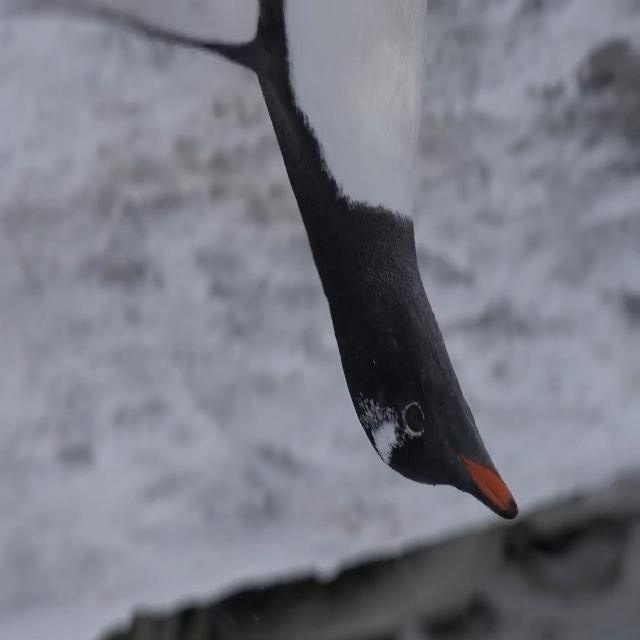penguin: (142, 2, 520, 522)
